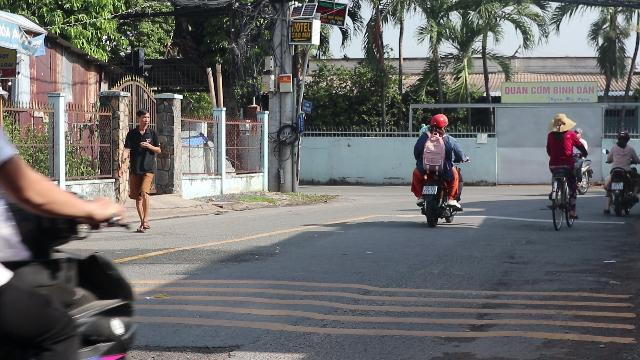helmet: (429, 113, 447, 133)
licenseplate: (423, 186, 437, 194)
motorcyclist: (408, 112, 464, 224)
